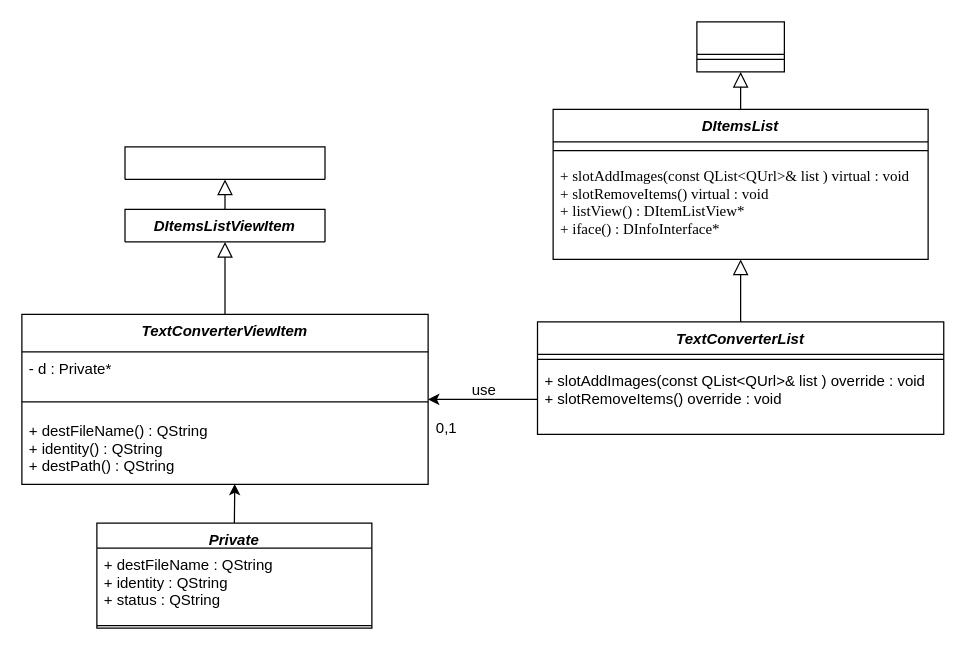
Some shapes in this 966 by 650 pixel diagram are drawn without their labels. Here are the shapes that lost their labels. From the top down, the centre of each, then its label:
At [740,46]: "QObject".
At [224,162]: "QTreeWidgetItem".
